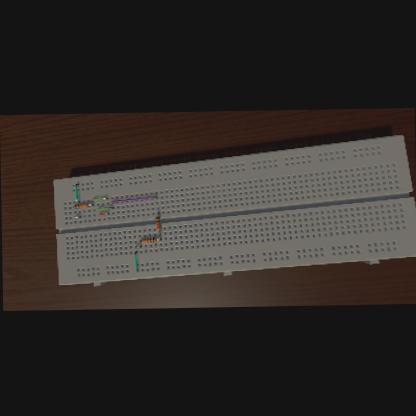breadboard: (51, 132, 416, 284)
resistor: (140, 236, 154, 242), (154, 215, 160, 229), (73, 202, 87, 206)
wire: (109, 195, 156, 202), (73, 182, 78, 200), (133, 249, 137, 270), (90, 196, 107, 199), (96, 206, 112, 209), (96, 212, 108, 214), (133, 244, 140, 246), (87, 202, 93, 204), (72, 215, 80, 216), (158, 230, 160, 233), (156, 211, 158, 214), (155, 237, 160, 238), (138, 238, 140, 240), (72, 205, 72, 206)
